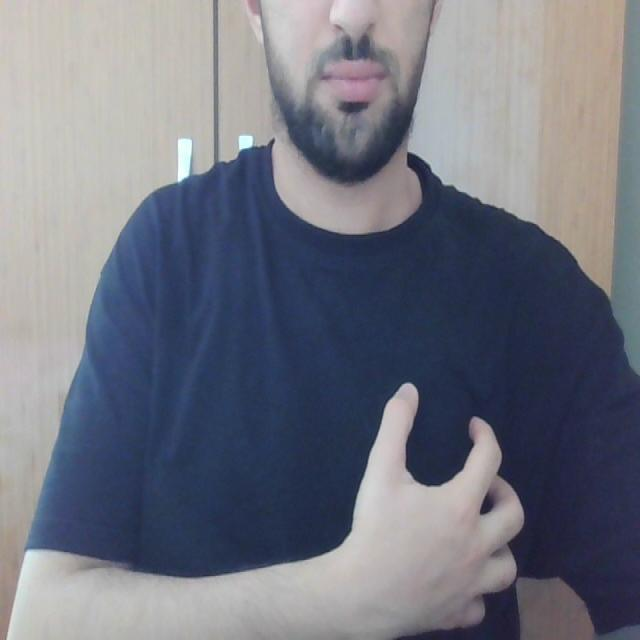Anne: (349, 370, 531, 640)
